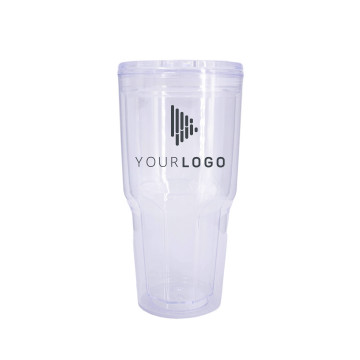plastic_bottle: (114, 55, 246, 320)
